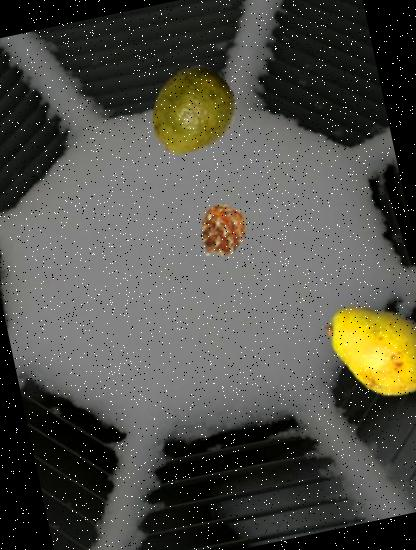Guava: (138, 58, 247, 166)
Pear: (307, 279, 416, 417)
Pineapple: (192, 198, 258, 264)
